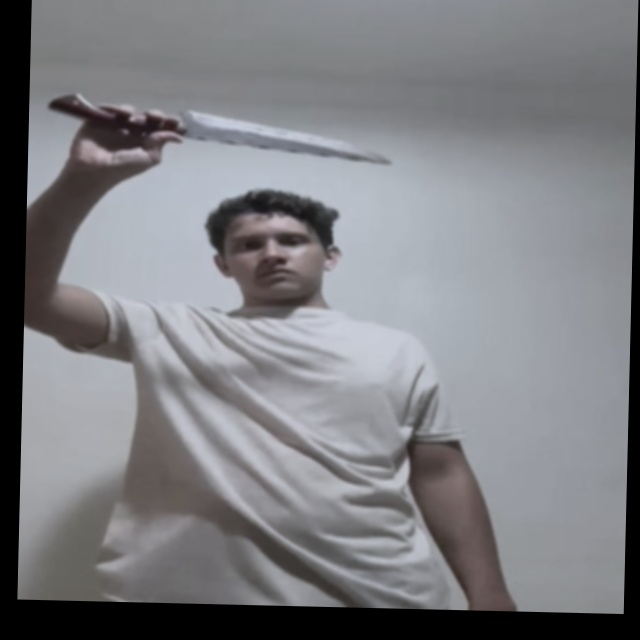Sharp-Object: (174, 108, 393, 164)
